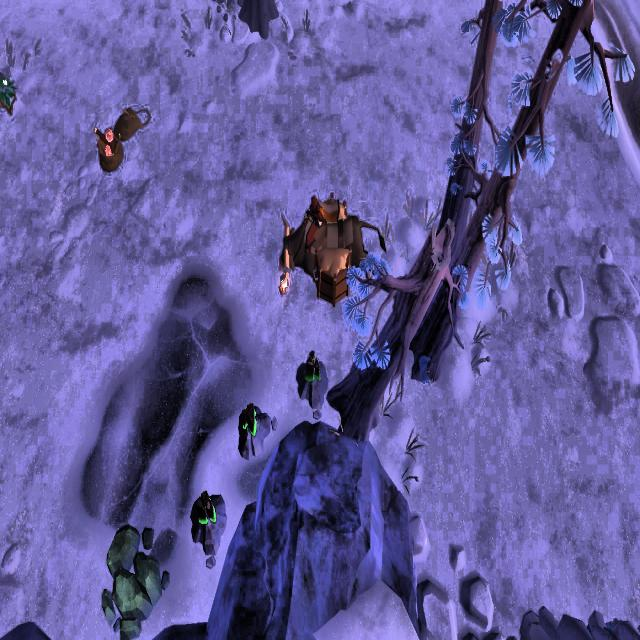fiber_t3: (0, 65, 20, 116)
ore_t3: (191, 485, 217, 528), (302, 350, 321, 388), (240, 400, 258, 439)
rock_t3: (98, 515, 174, 640)
